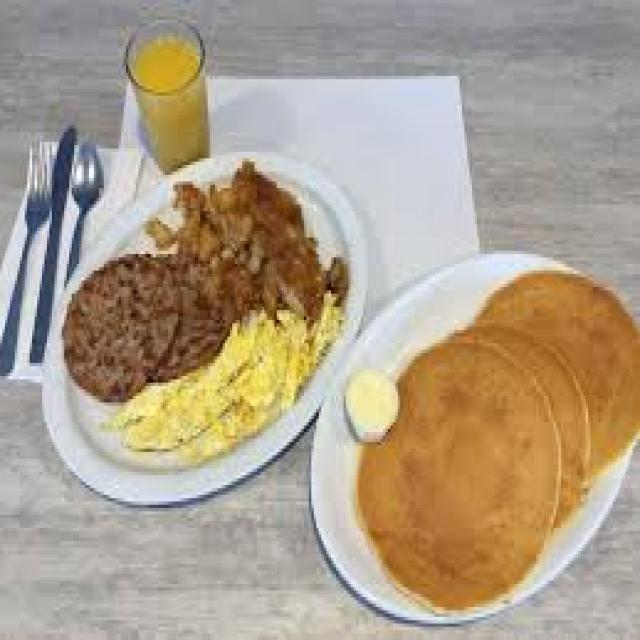Omelette: (101, 281, 334, 465)
Pancakes: (356, 264, 637, 610)
